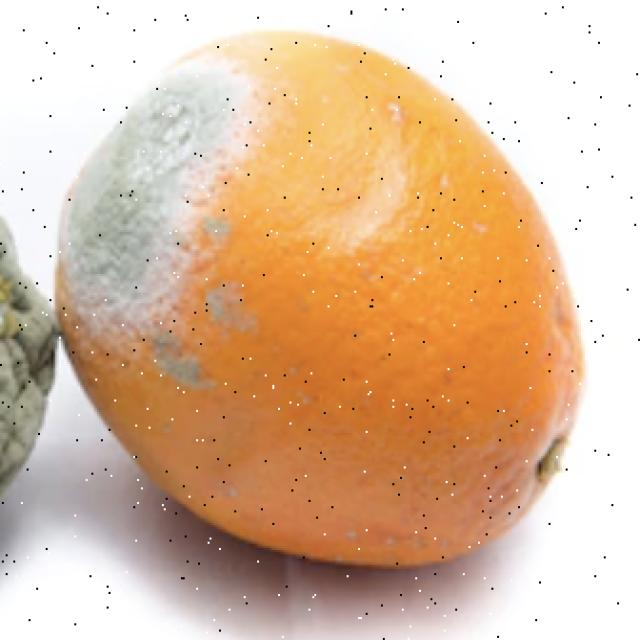sangat_busuk: (0, 188, 56, 509)
sedikit_busuk: (54, 26, 590, 568)
